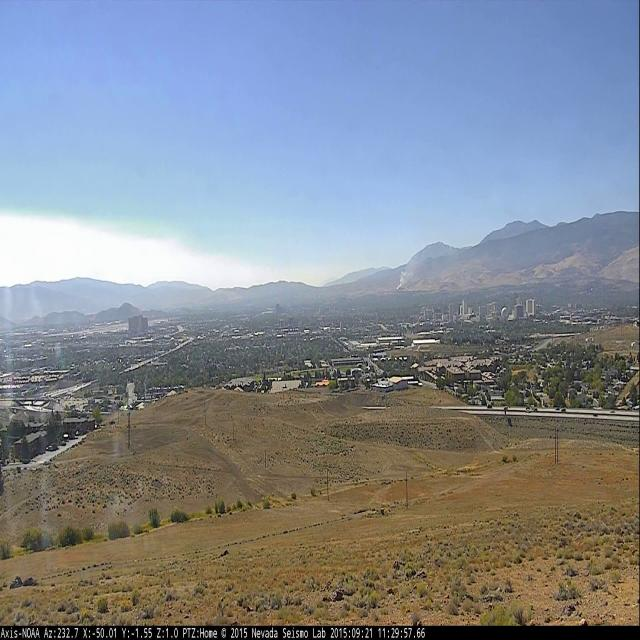smoke: (396, 248, 430, 288)
